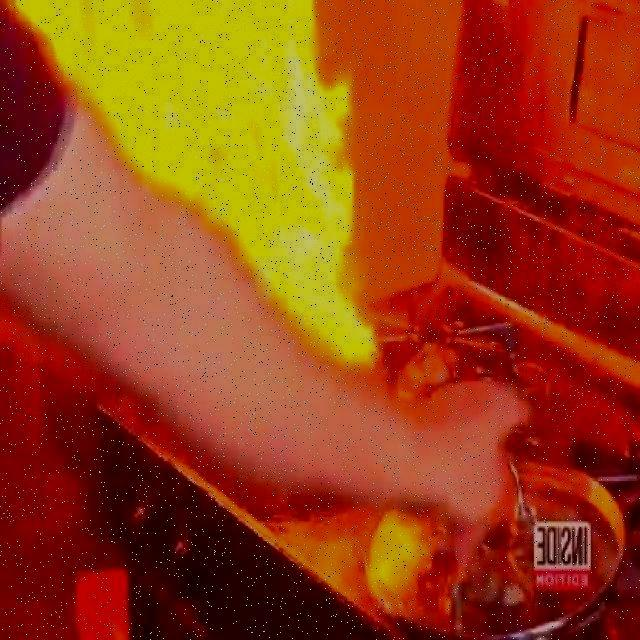fire: (62, 0, 374, 381)
